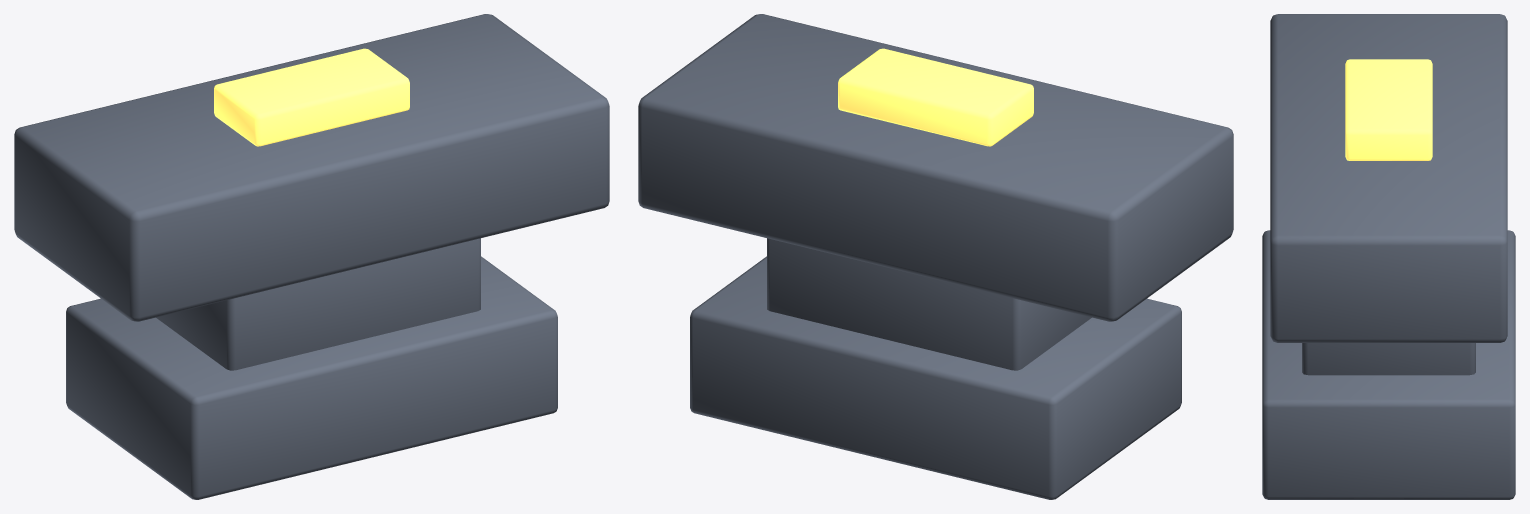
The model's file is prop_forge_anvil.glb.
The picture shows the model from 3 angles, left to right: view 1: azimuth 30°, elevation 25°; view 2: azimuth 150°, elevation 25°; view 3: azimuth 270°, elevation 25°; orthographic projection. The views are drawn at different scales.
Parts seen in each view (by area): view 1: anvil_top, anvil_base, anvil_waist, star_ingot; view 2: anvil_top, anvil_base, anvil_waist, star_ingot; view 3: anvil_top, anvil_base, star_ingot, anvil_waist.
Boxes of the visible parts, x1=… form: anvil_top: x1=14, y1=14, x2=609, y2=321; anvil_base: x1=66, y1=256, x2=557, y2=499; anvil_waist: x1=156, y1=238, x2=480, y2=370; star_ingot: x1=214, y1=48, x2=409, y2=146; anvil_top: x1=638, y1=14, x2=1233, y2=321; anvil_base: x1=690, y1=256, x2=1181, y2=499; anvil_waist: x1=767, y1=238, x2=1091, y2=370; star_ingot: x1=838, y1=48, x2=1033, y2=146; anvil_top: x1=1270, y1=14, x2=1507, y2=342; anvil_base: x1=1262, y1=230, x2=1515, y2=499; star_ingot: x1=1345, y1=59, x2=1432, y2=160; anvil_waist: x1=1302, y1=343, x2=1475, y2=375.
Size of the model in its own units: 6.8 by 4.47 by 3.2.
